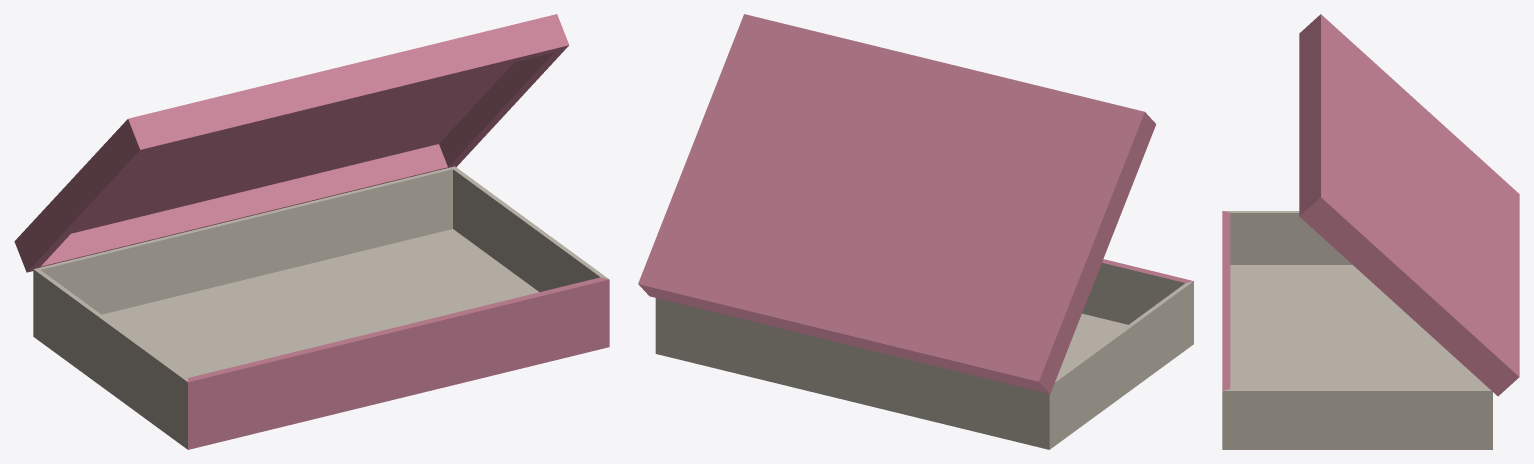
Rendered from DonutBox_01.fbx.
The picture shows the model from 3 angles, left to right: view 1: azimuth 30°, elevation 25°; view 2: azimuth 150°, elevation 25°; view 3: azimuth 270°, elevation 25°; orthographic projection. The views are drawn at different scales.
Parts seen in each view (by area): view 1: DonutBox_01, DonutBox_01_Top; view 2: DonutBox_01_Top, DonutBox_01; view 3: DonutBox_01_Top, DonutBox_01.
Boxes of the visible parts, left/top/right/bottom form: DonutBox_01: left=33, top=166, right=609, bottom=449; DonutBox_01_Top: left=14, top=14, right=568, bottom=272; DonutBox_01_Top: left=638, top=14, right=1156, bottom=393; DonutBox_01: left=655, top=259, right=1193, bottom=449; DonutBox_01_Top: left=1299, top=14, right=1519, bottom=396; DonutBox_01: left=1222, top=211, right=1492, bottom=449.
Bounding box in the file's own units: 0.4625 × 0.2997 × 0.3171.
